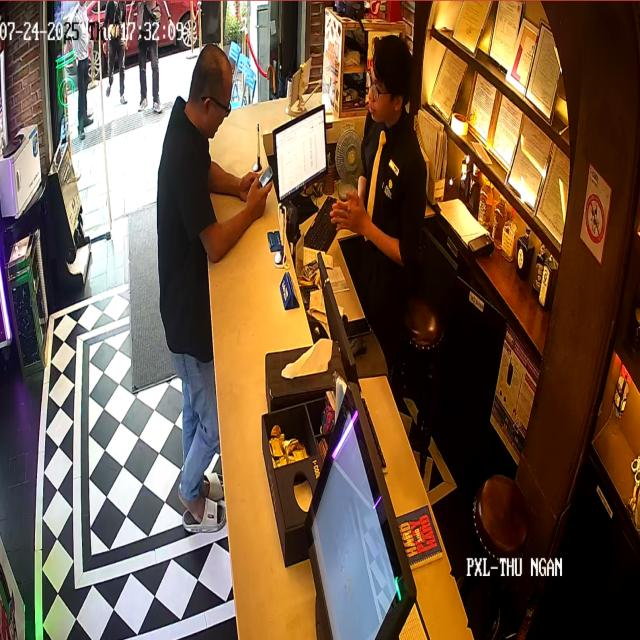khach: (158, 49, 244, 502)
nhan vien: (372, 51, 423, 315)
